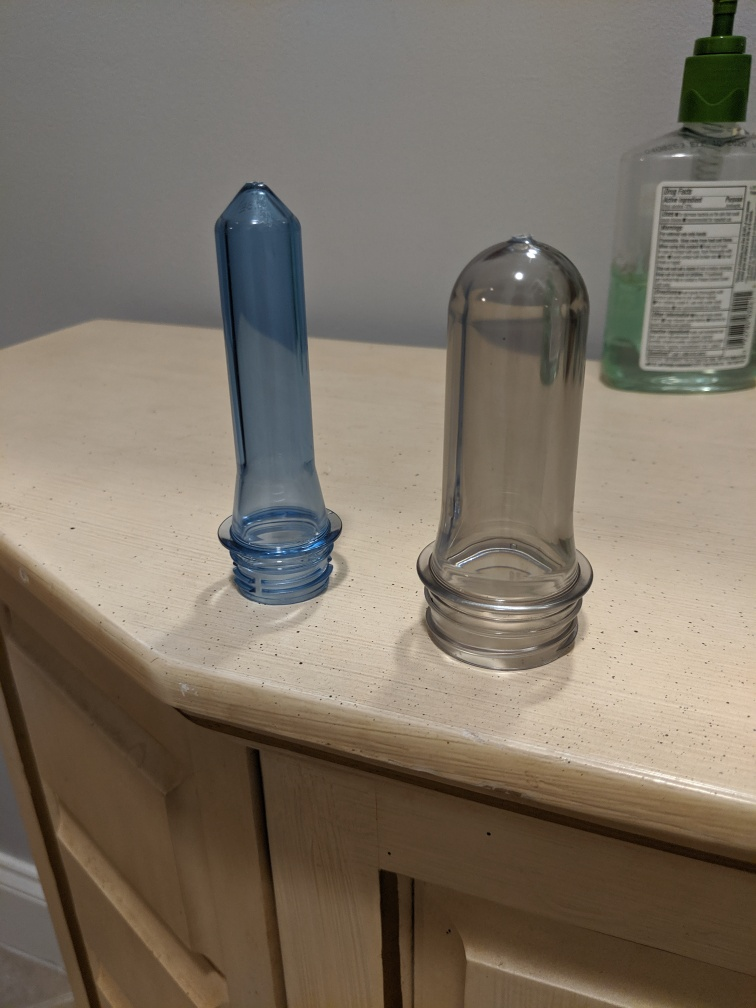preform: (408, 225, 602, 683), (202, 165, 350, 611)
